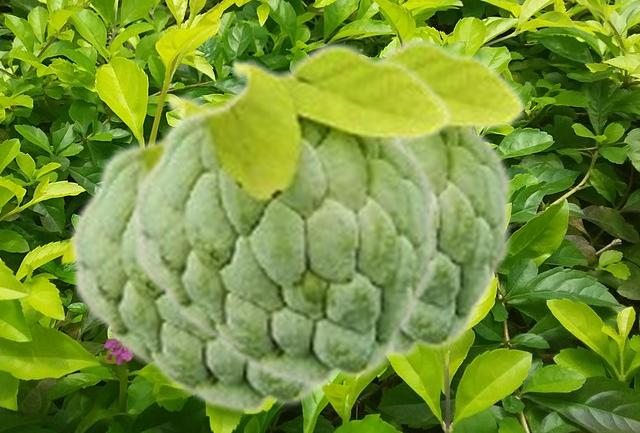atis: (128, 40, 453, 388), (66, 88, 324, 415), (376, 36, 527, 358)
